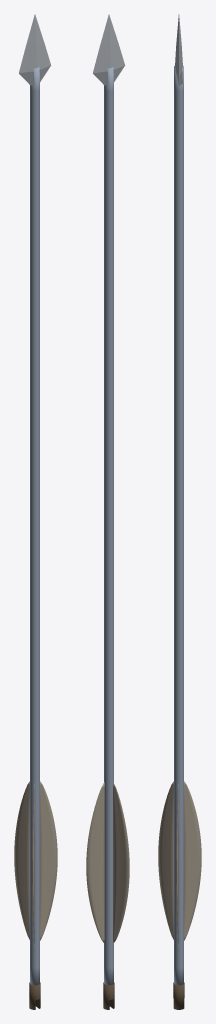
The model's file is Arrow.gltf.
3 renders of one model, left to right at view 1: azimuth 30°, elevation 25°; view 2: azimuth 210°, elevation 25°; view 3: azimuth 270°, elevation 25°, orthographic.
Parts seen in each view (by area): view 1: StraightAshShaft, CurvedFeather0, CurvedFeather2, ForgedArrowhead, CurvedFeather1, HornTailNock; view 2: StraightAshShaft, CurvedFeather0, CurvedFeather2, ForgedArrowhead, HornTailNock; view 3: StraightAshShaft, CurvedFeather2, CurvedFeather1, ForgedArrowhead, HornTailNock, CurvedFeather0.
Boxes of the visible parts, box(x1,y1,x2,y2) form: StraightAshShaft: box(30, 67, 39, 985); CurvedFeather0: box(40, 781, 57, 940); CurvedFeather2: box(14, 781, 29, 939); ForgedArrowhead: box(19, 14, 51, 85); CurvedFeather1: box(32, 783, 34, 945); HornTailNock: box(29, 982, 40, 1009); StraightAshShaft: box(104, 67, 113, 985); CurvedFeather0: box(86, 782, 104, 943); CurvedFeather2: box(113, 782, 129, 944); ForgedArrowhead: box(93, 14, 125, 85); HornTailNock: box(103, 982, 114, 1009); StraightAshShaft: box(174, 66, 183, 985); CurvedFeather2: box(184, 781, 201, 940); CurvedFeather1: box(158, 781, 173, 939); ForgedArrowhead: box(175, 14, 182, 86); HornTailNock: box(173, 982, 184, 1009); CurvedFeather0: box(176, 783, 178, 945).
Size of the model in its own units: 0.028 by 0.7 by 0.0278.
